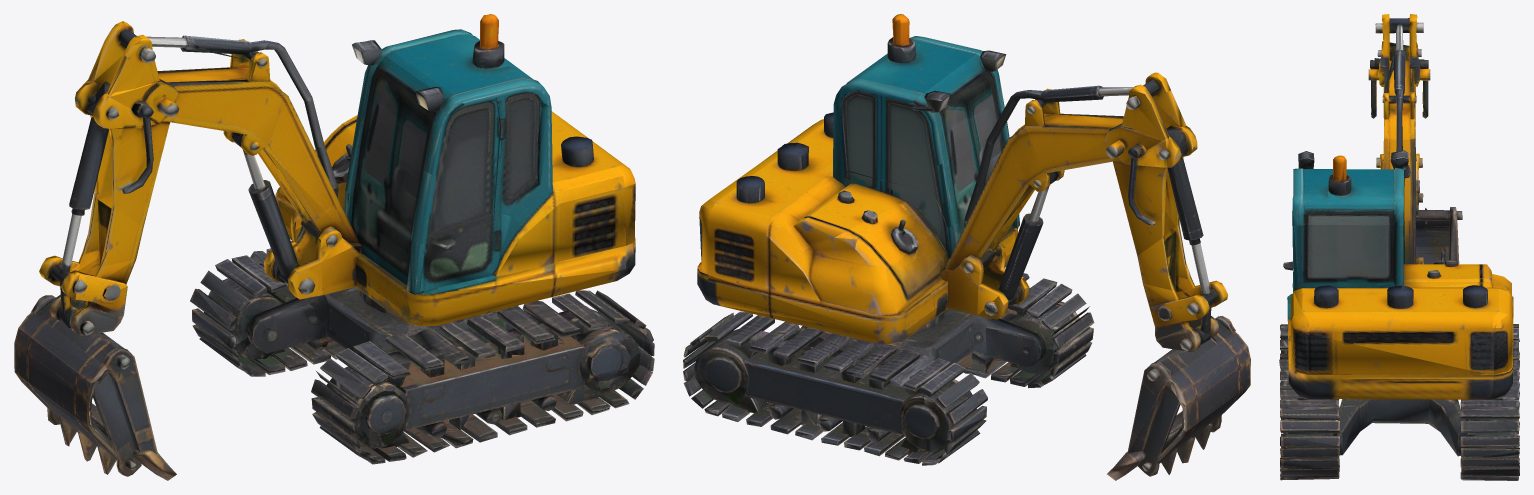
The model's file is excavator.glb.
The picture shows the model from 3 angles, left to right: view 1: azimuth 30°, elevation 25°; view 2: azimuth 150°, elevation 25°; view 3: azimuth 270°, elevation 25°; orthographic projection. The views are drawn at different scales.
Size of the model in its own units: 1 by 0.7695 by 0.5332.
1 material, 1 textured.
